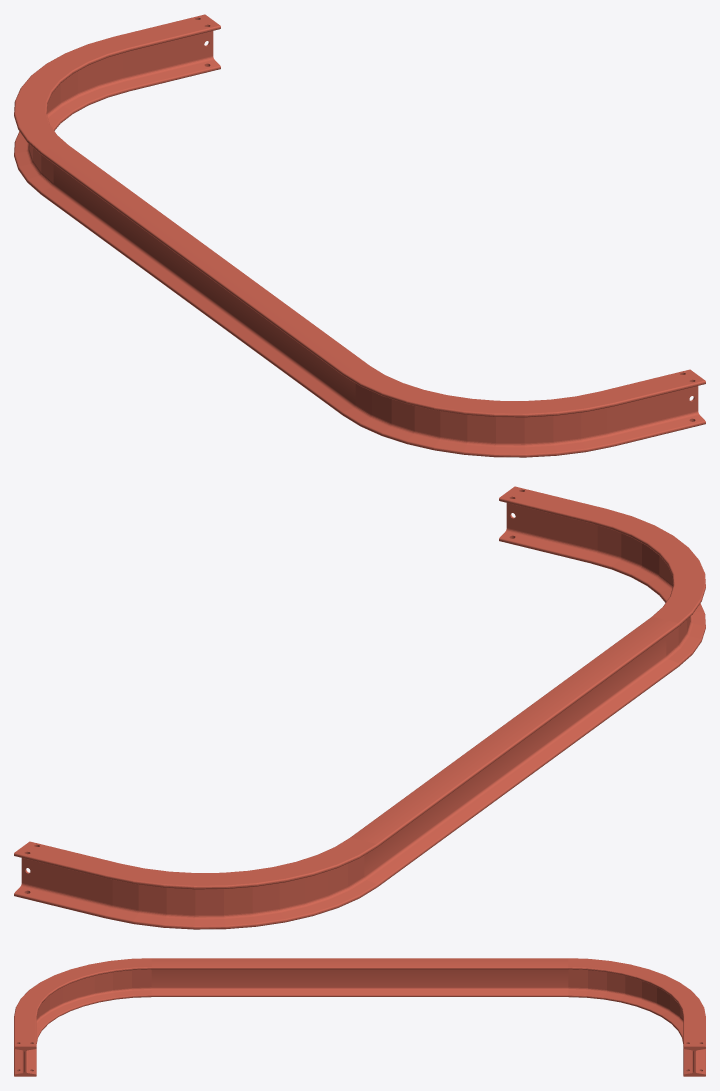
The model's file is H-Profile_U-Shape2.glb.
The picture shows the model from 3 angles, top to bottom: view 1: azimuth 30°, elevation 25°; view 2: azimuth 150°, elevation 25°; view 3: azimuth 270°, elevation 25°; orthographic projection. The views are drawn at different scales.
Visible parts, largest first — view 1: H_Profile_U2_1; view 2: H_Profile_U2_1; view 3: H_Profile_U2_1.
Part boxes in pixels (<box>): H_Profile_U2_1: <box>14,14,705,457</box>; H_Profile_U2_1: <box>14,486,705,929</box>; H_Profile_U2_1: <box>14,958,705,1076</box>.
Size of the model in its own units: 631 by 99.92 by 2078.
